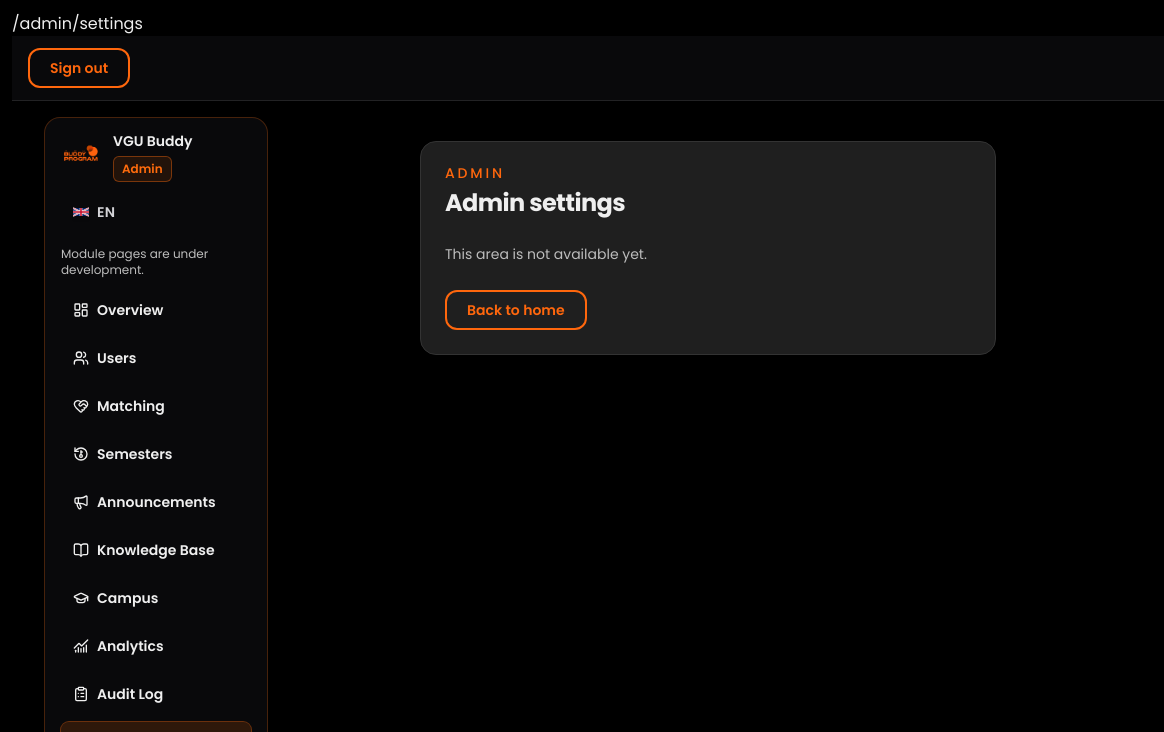
Test: ADMIN-002 guarded App navigation › opens the guarded Knowledge Base destination through the actual sidebar
Step 1. Click the link "Knowledge Base" → (144, 550), box [73, 540, 214, 560]
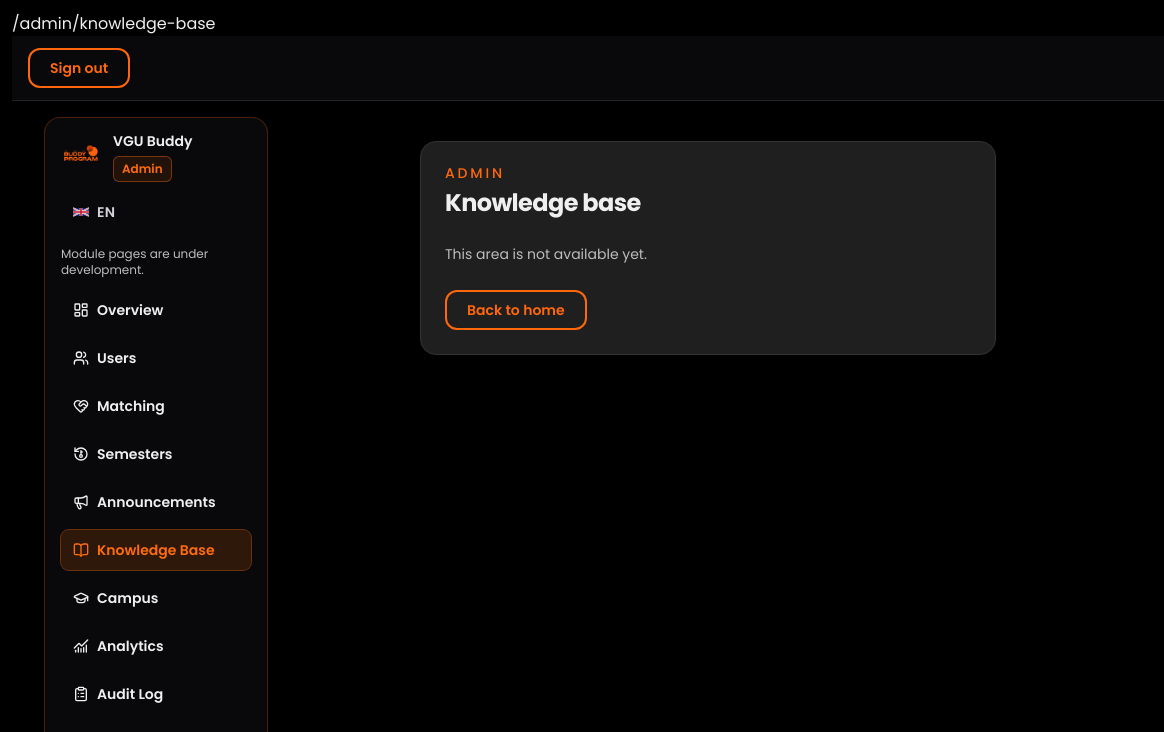
Expected: the heading "Knowledge base" is shown, [445, 186, 641, 219]
